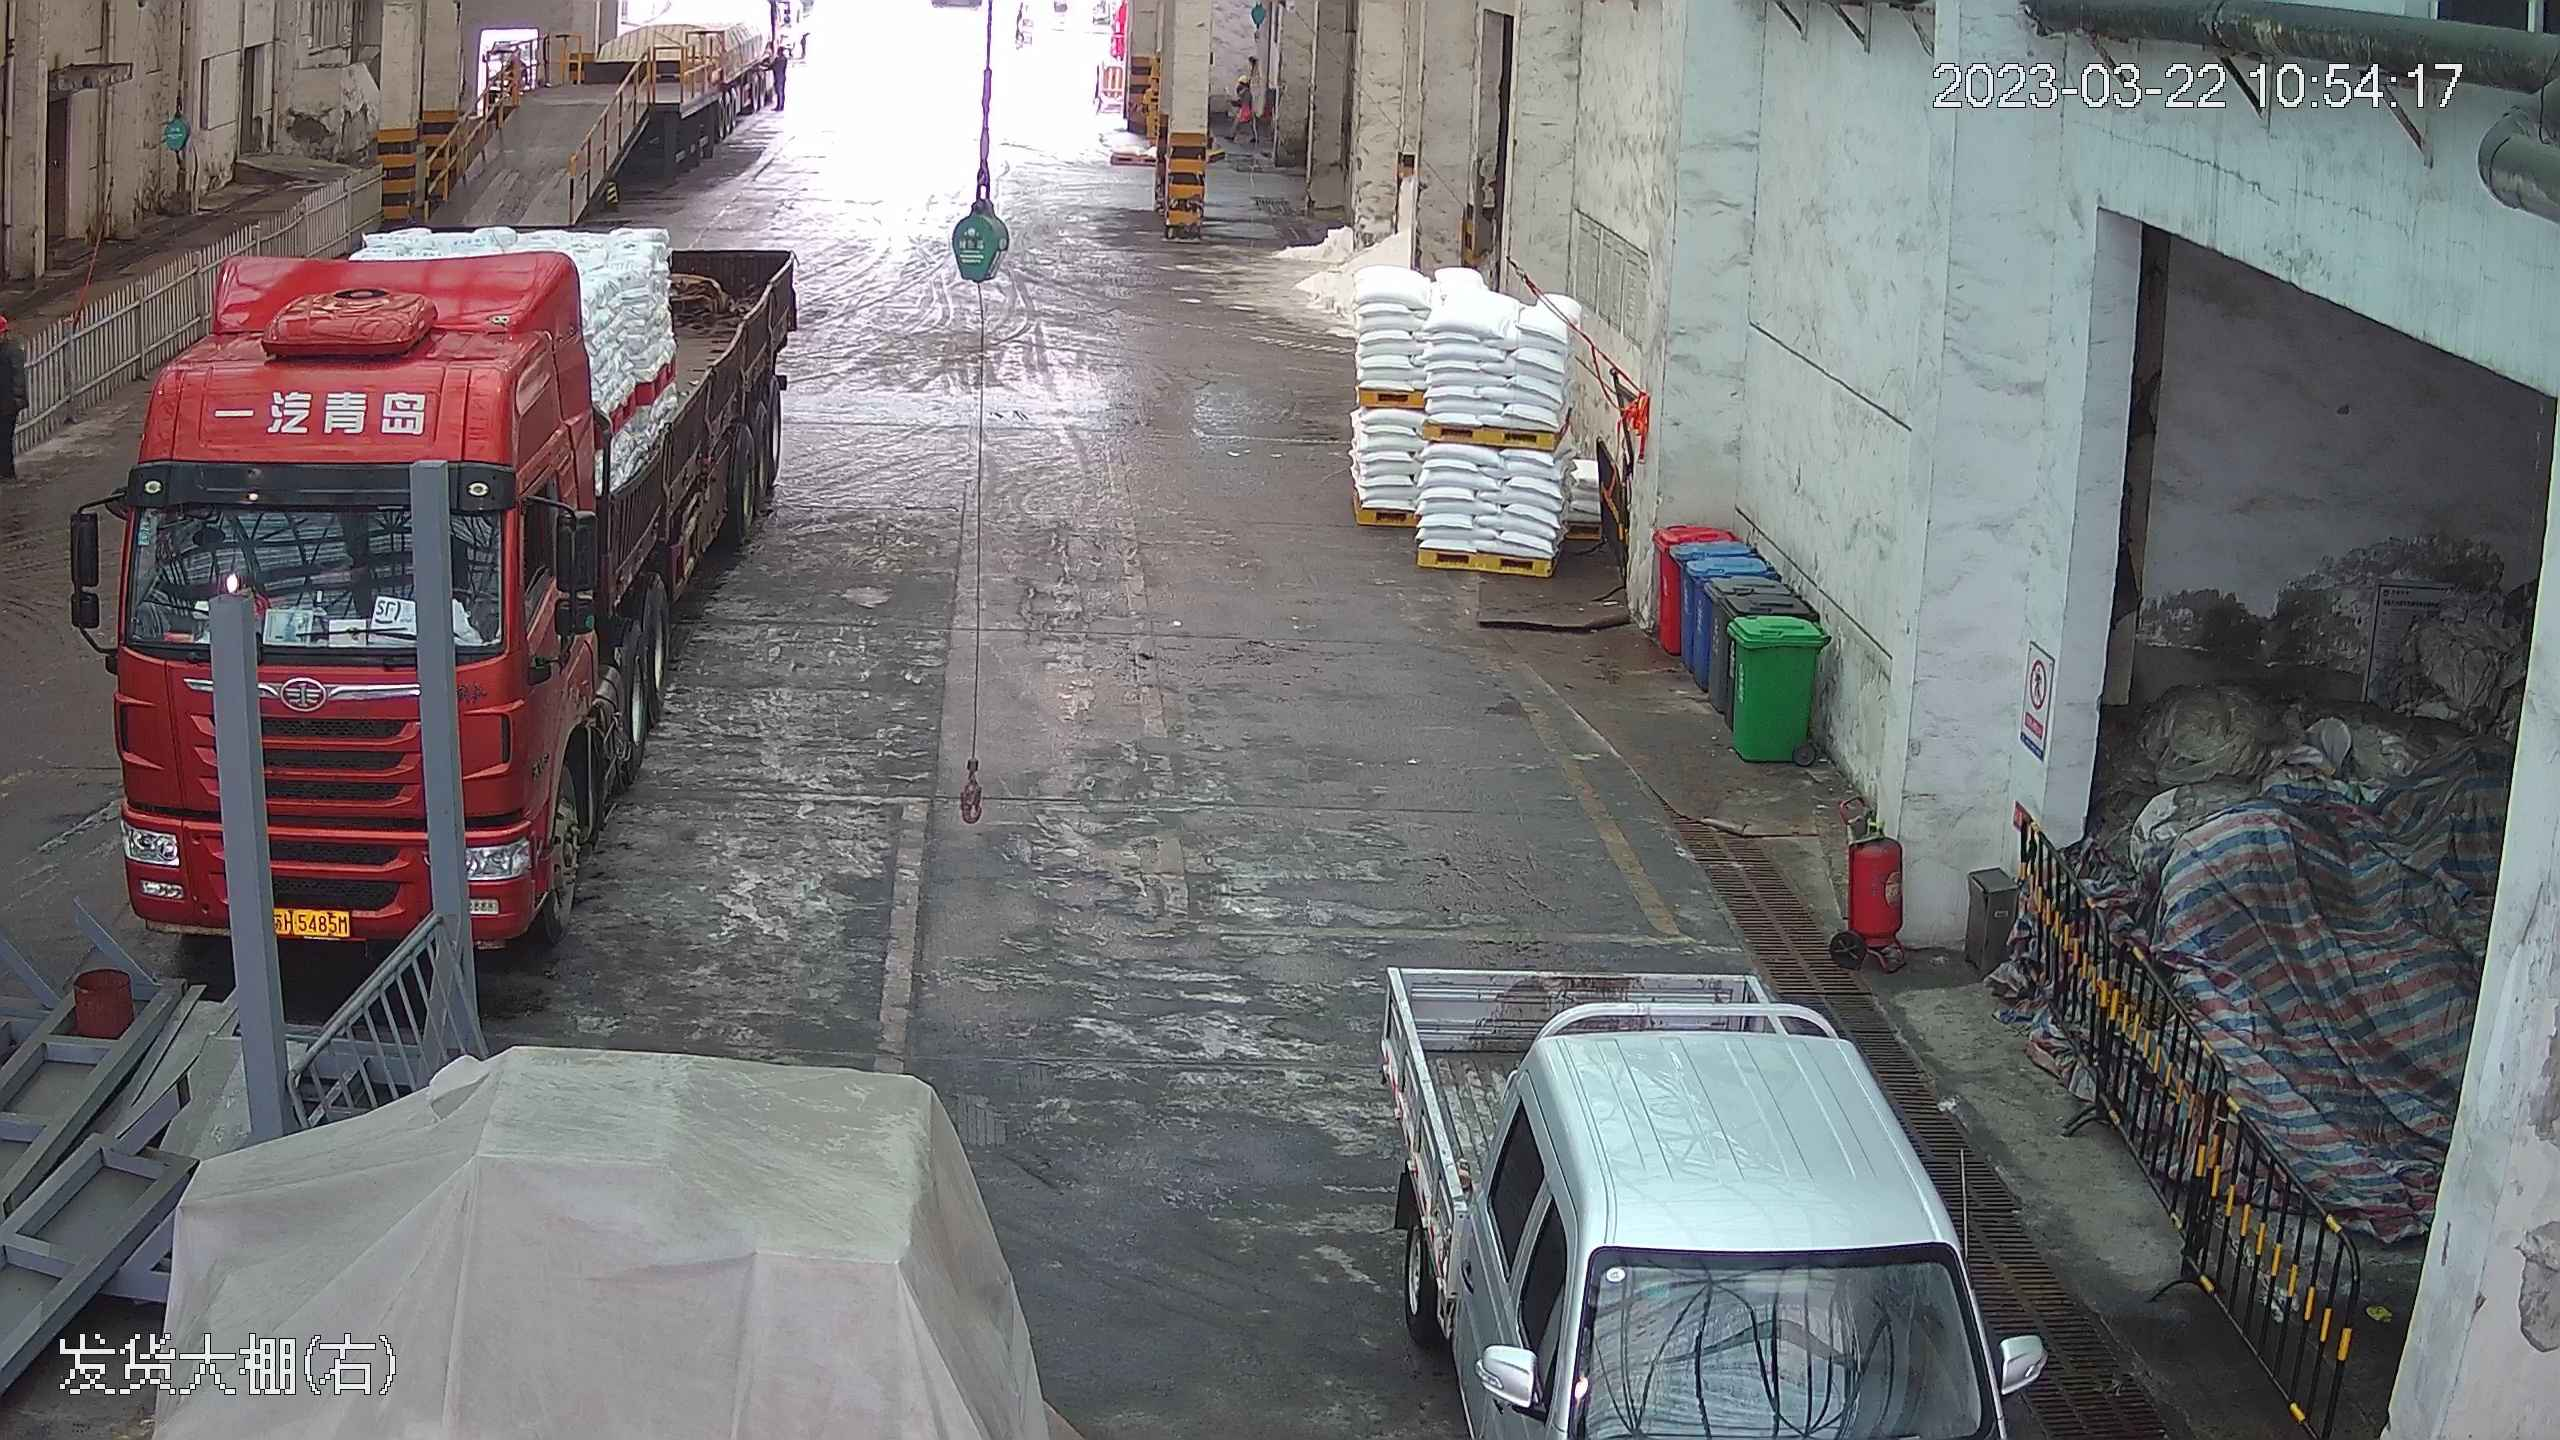truck: (86, 230, 795, 964), (1359, 951, 2052, 1440)
